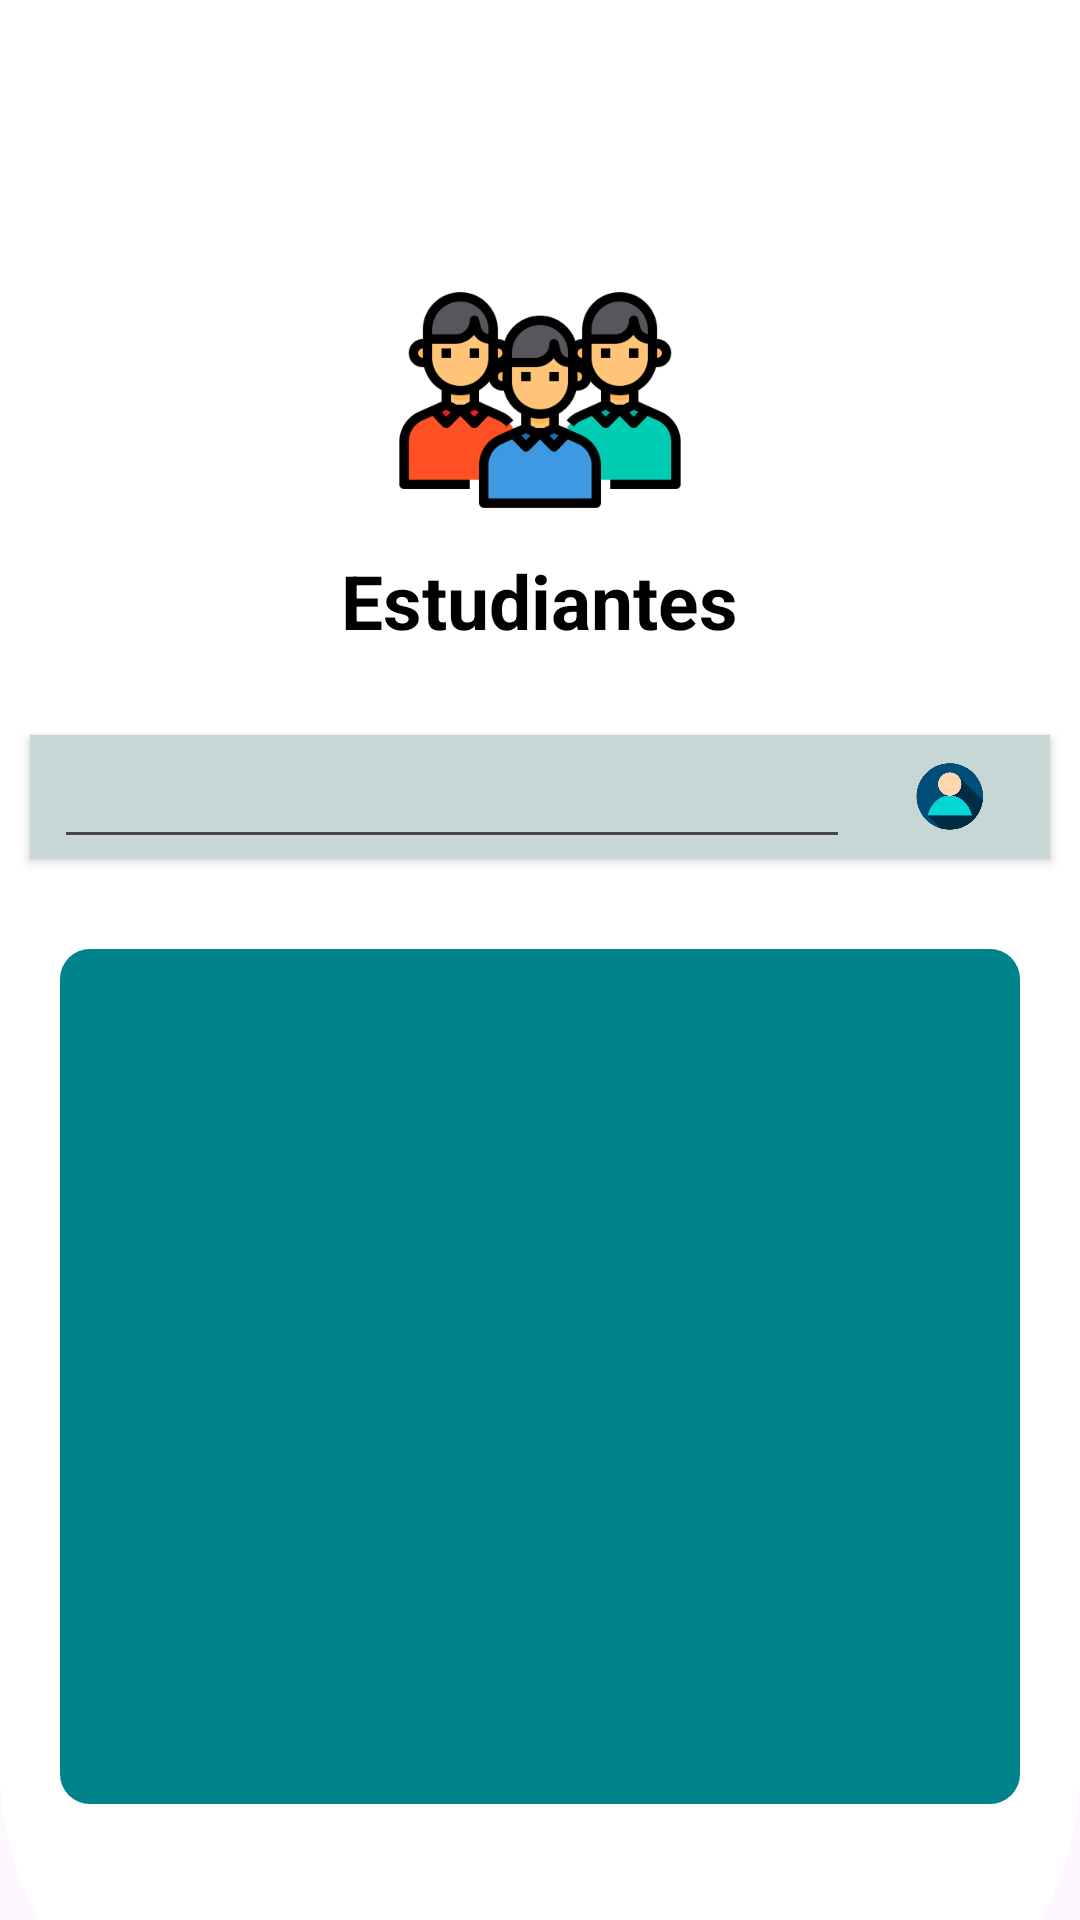

Icons on this 1080×1920 Android screen, each with the point to tap as (x=x, y=y):
usuario: (x=949, y=796)
